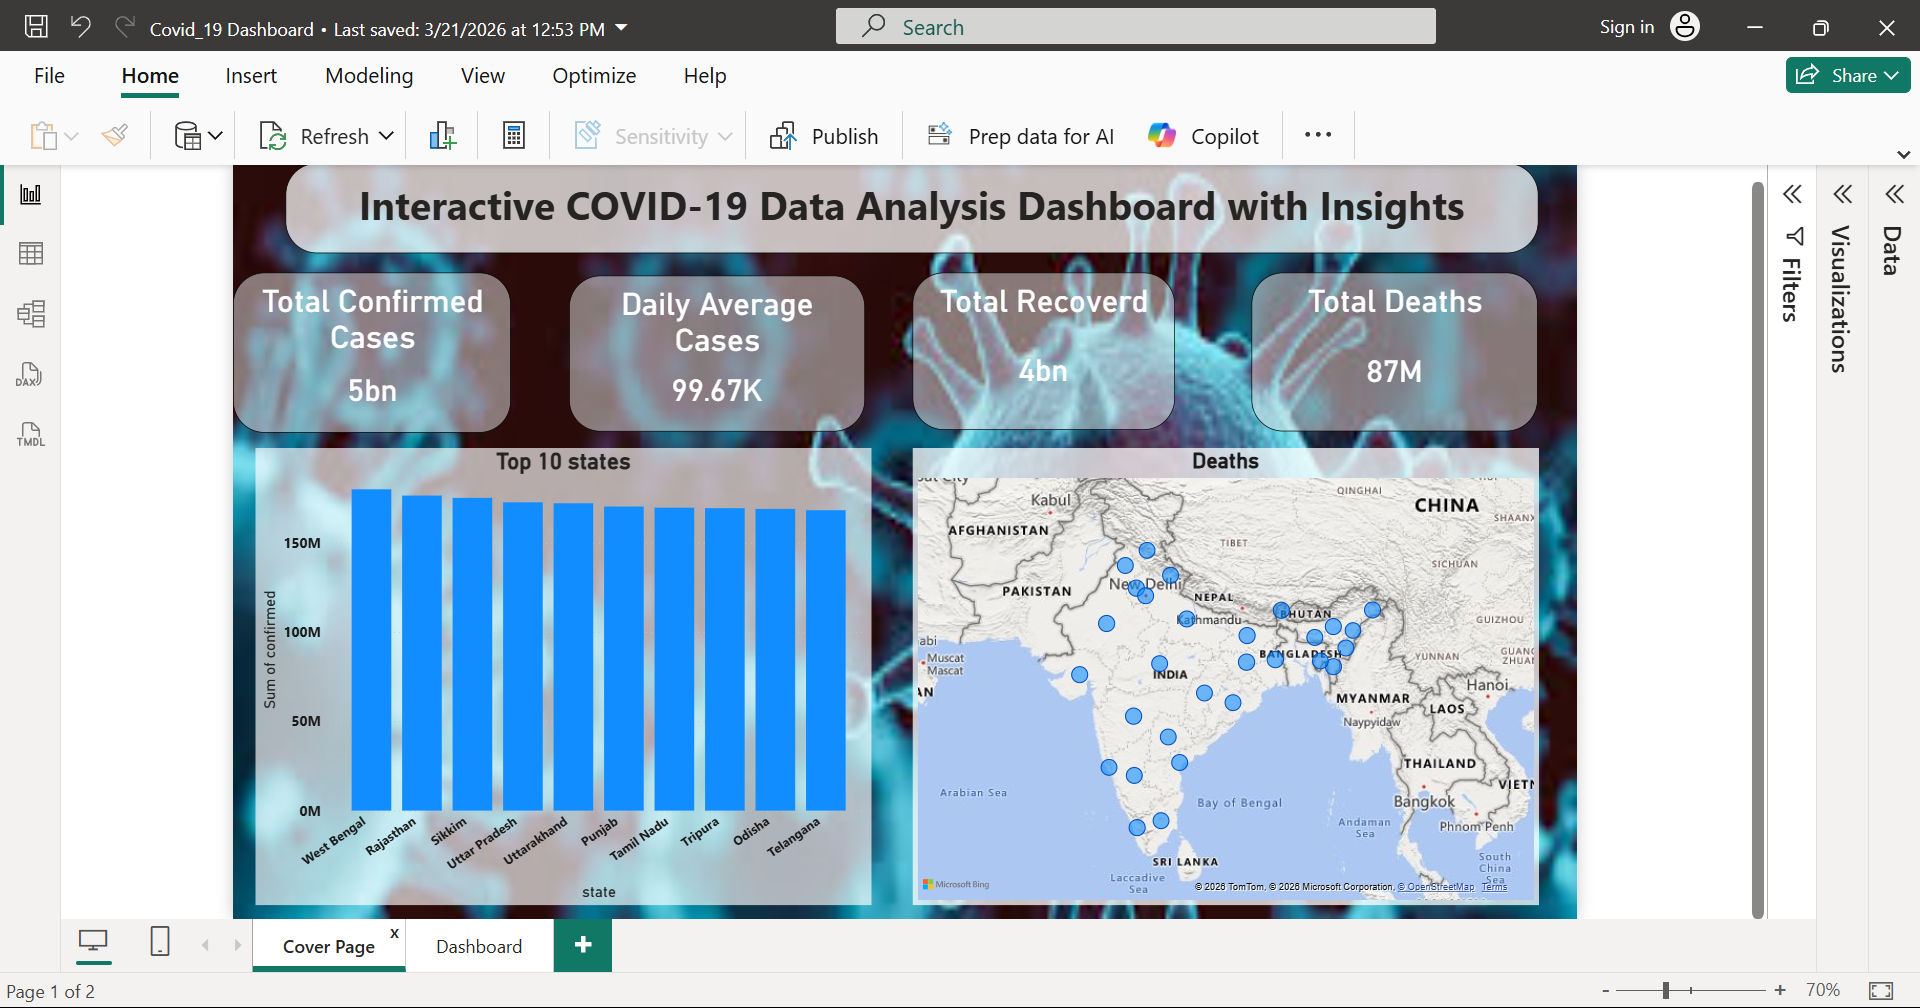

Layout of this report page (visuals, bound fields, positions):
{"tool":"powerbi","page":{"name":"Cover Page","canvas":[1280,720],"ordinal":0},"visuals":[{"type":"card","title":"Daily Average Cases","fields":{"Values":["Clean_Covid_India.daily average"]},"box":[320,106.7,281.7,148.3],"z":0},{"type":"card","title":"Total Deaths","fields":{"Values":["Clean_Covid_India.total death"]},"box":[970.6,104.5,272.6,151.4],"z":1000},{"type":"card","title":"Total Recoverd","fields":{"Values":["Clean_Covid_India.total recoverd"]},"box":[646.6,104.5,249.8,149.9],"z":2000},{"type":"card","title":"Total Confirmed Cases","fields":{"Values":["Clean_Covid_India.total confirm"]},"box":[0,104.5,265,152.9],"z":3000},{"type":"textbox","box":[50,0,1193.2,86.3],"z":4000},{"type":"columnChart","title":"Top 10 states","fields":{"Category":["Clean_Covid_India.state"],"Y":["Sum(Clean_Covid_India.confirmed)"]},"box":[21.7,271.7,586.7,435],"z":5000},{"type":"map","title":"Deaths","fields":{"Category":["Clean_Covid_India.state"],"Size":["Sum(Clean_Covid_India.deaths)"]},"box":[646.7,271.7,596.7,435],"z":6000}]}

Visuals, with their boxes on the page's 1280x720 design canvas (x1, y1, x2, y2). These are canvas units, not pixel positions in the 1920x1008 screenshot, which may show the page scaled, cropped or inside an application window:
"Daily Average Cases" card: left=320, top=107, right=602, bottom=255
"Total Deaths" card: left=971, top=104, right=1243, bottom=256
"Total Recoverd" card: left=647, top=104, right=896, bottom=254
"Total Confirmed Cases" card: left=0, top=104, right=265, bottom=257
textbox: left=50, top=0, right=1243, bottom=86
"Top 10 states" columnChart: left=22, top=272, right=608, bottom=707
"Deaths" map: left=647, top=272, right=1243, bottom=707
